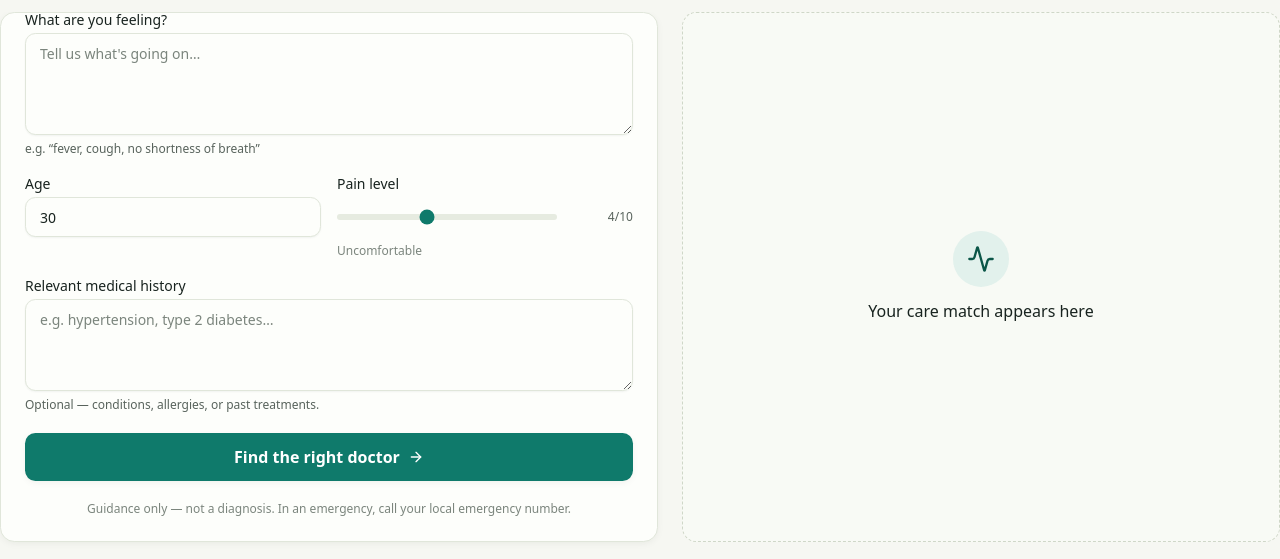
it: SymptomChecker smart check › shows an emergency alert for red-flag symptoms without a keyword fallback
This screenshot has width=1280, height=559.
Click the text box labelled "What are you feeling?" at (329, 84), box [25, 33, 633, 135]
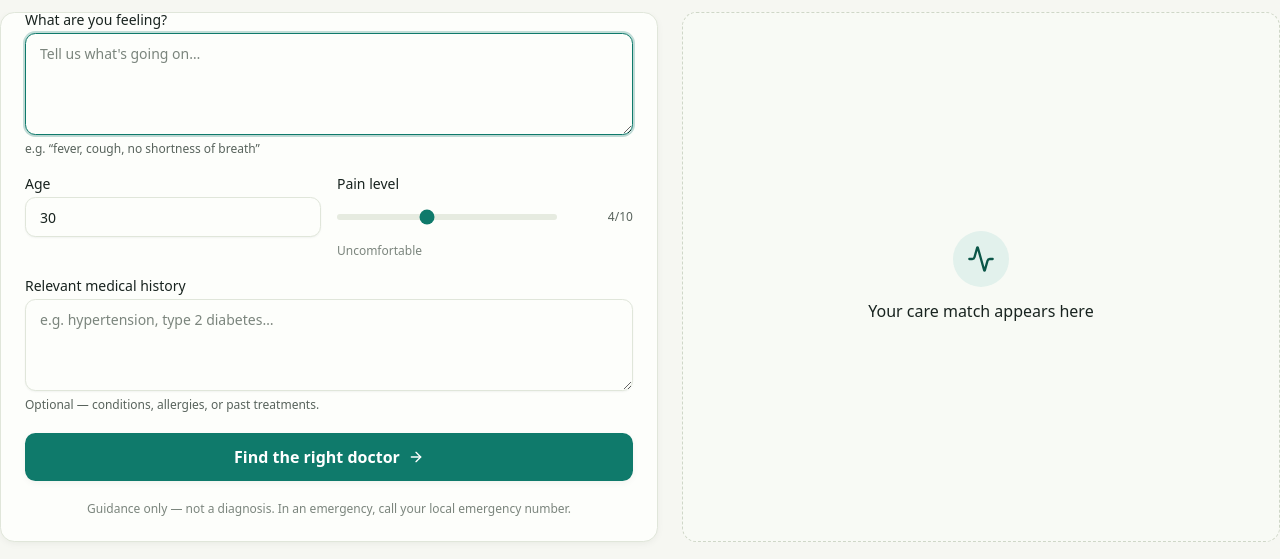
Type keys "chest pain at rest"
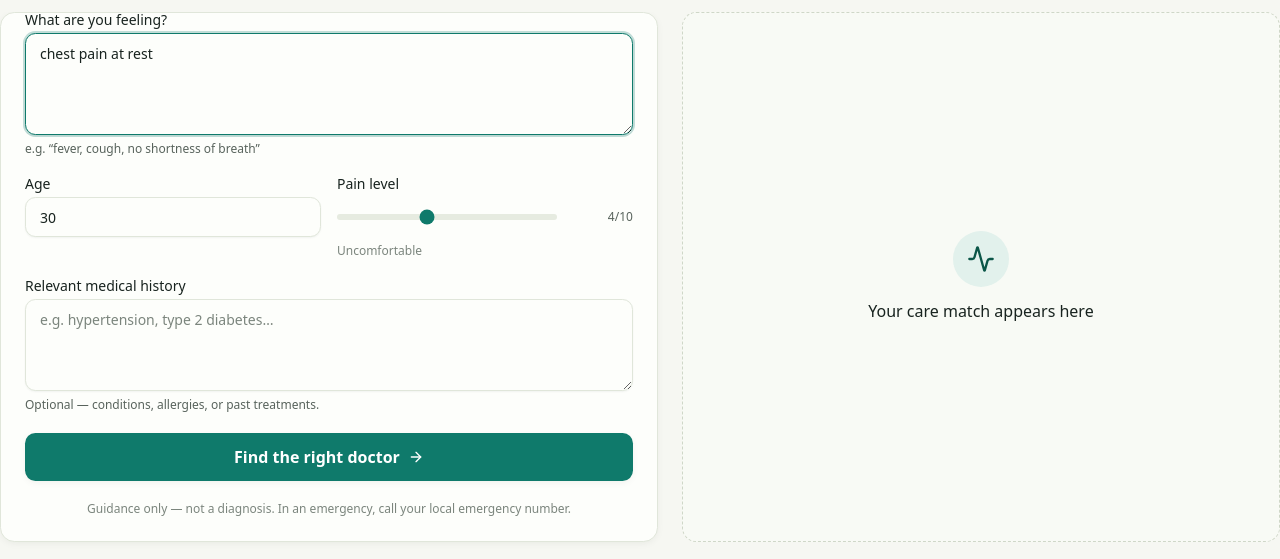
Click the button "Find the right doctor" at (329, 457), box [25, 433, 633, 481]
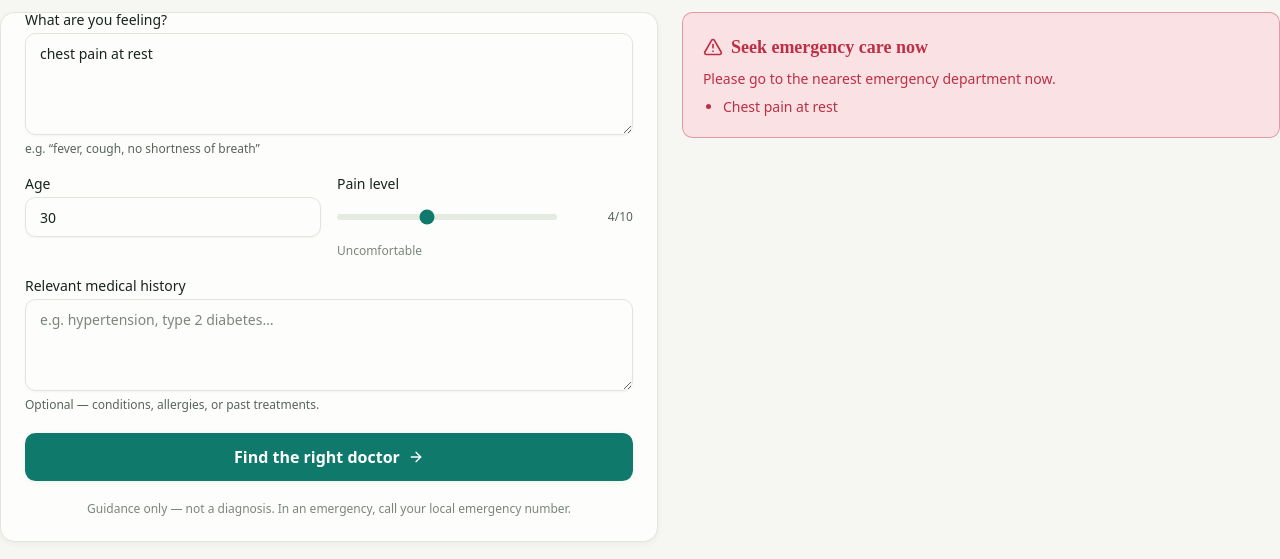
Expected: the message shows "Chest pain at rest", [723, 97, 838, 116]
